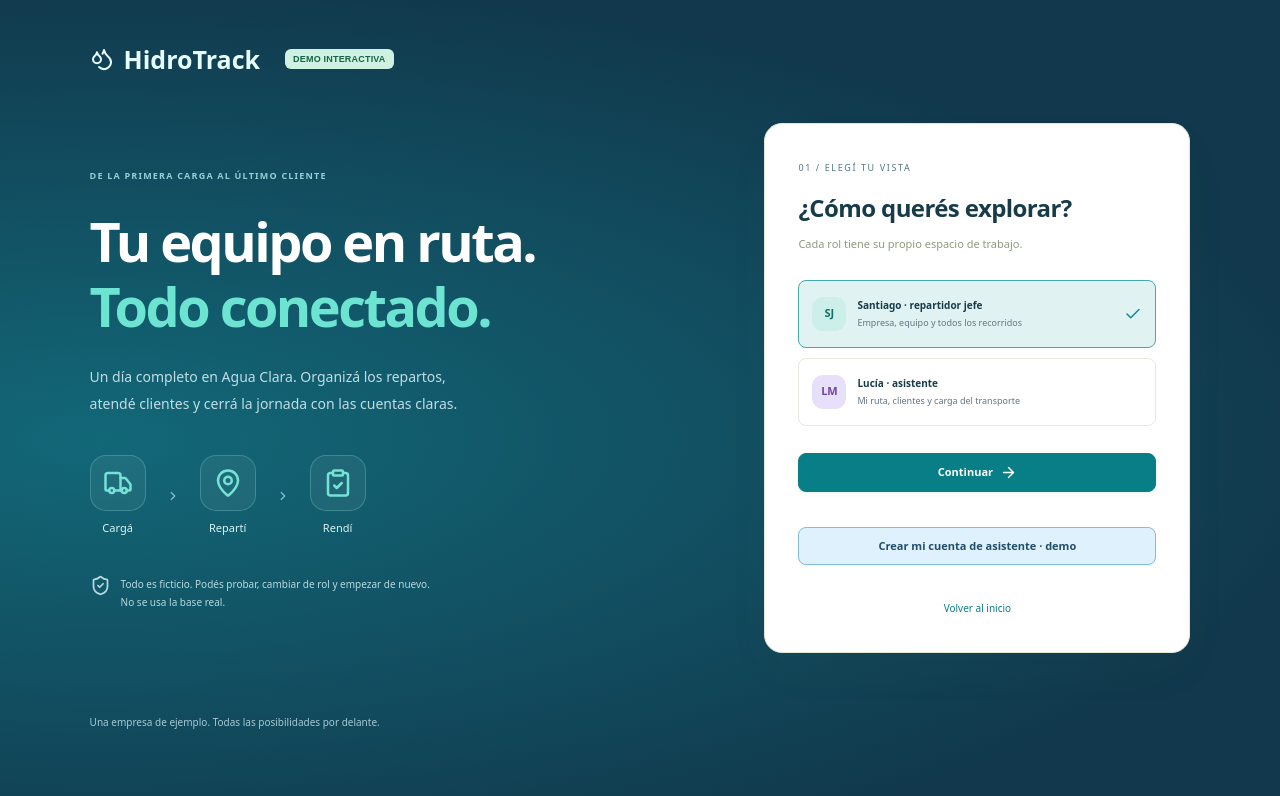
Scenario: muestra el apartado al jefe y lo oculta al cambiar a asistente
Click the button "Continuar".
click(977, 472)  # box x1=798 y1=453 x2=1156 y2=492
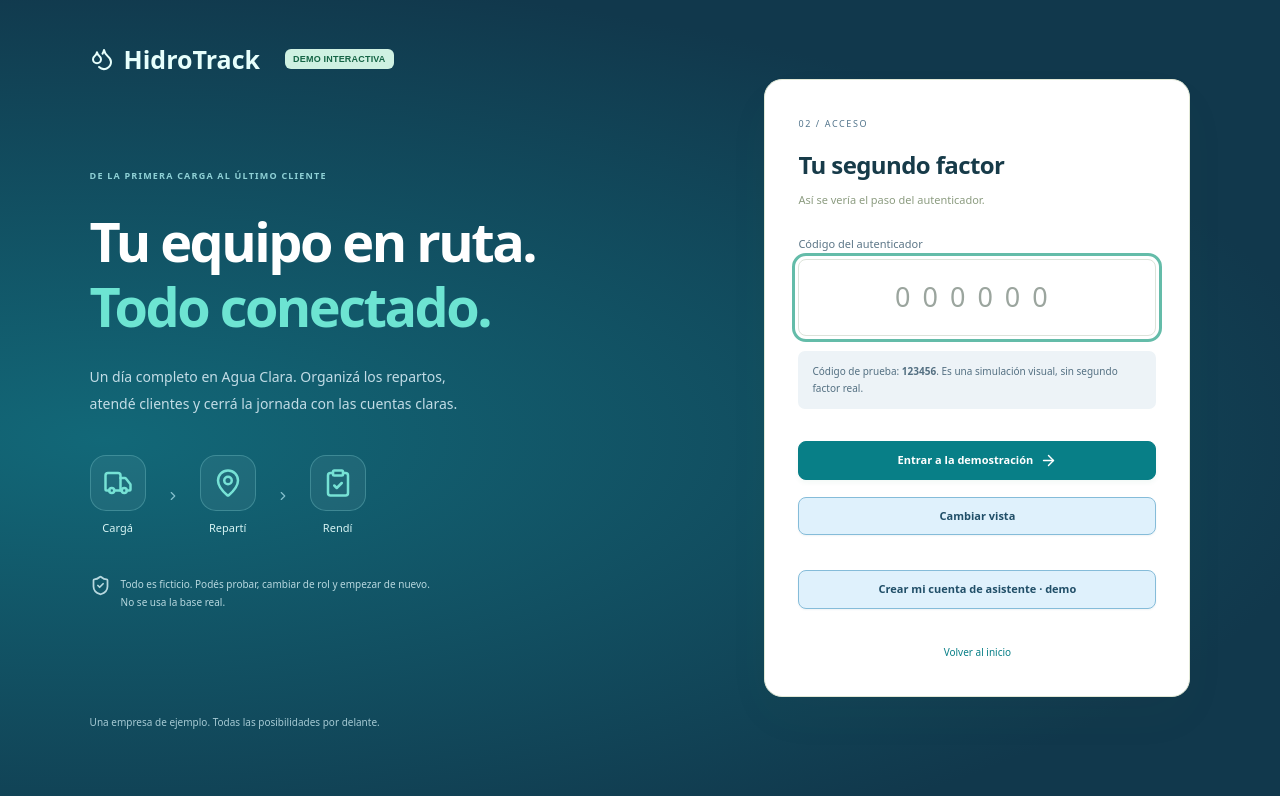
Type "123456" into the field labelled "Código del autenticador".
click(977, 298); type("123456")  # box x1=798 y1=260 x2=1156 y2=336
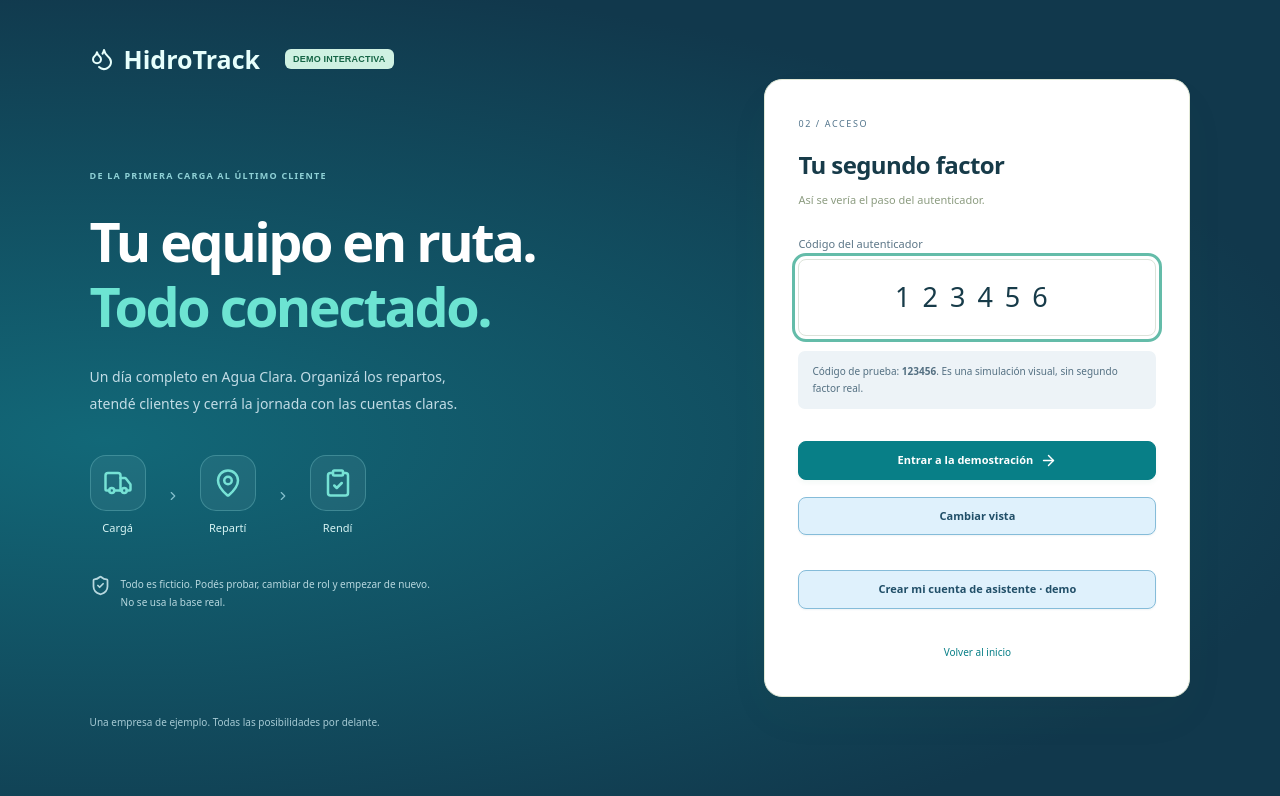
Click the button "Entrar a la demostración".
click(977, 460)  # box x1=798 y1=441 x2=1156 y2=480
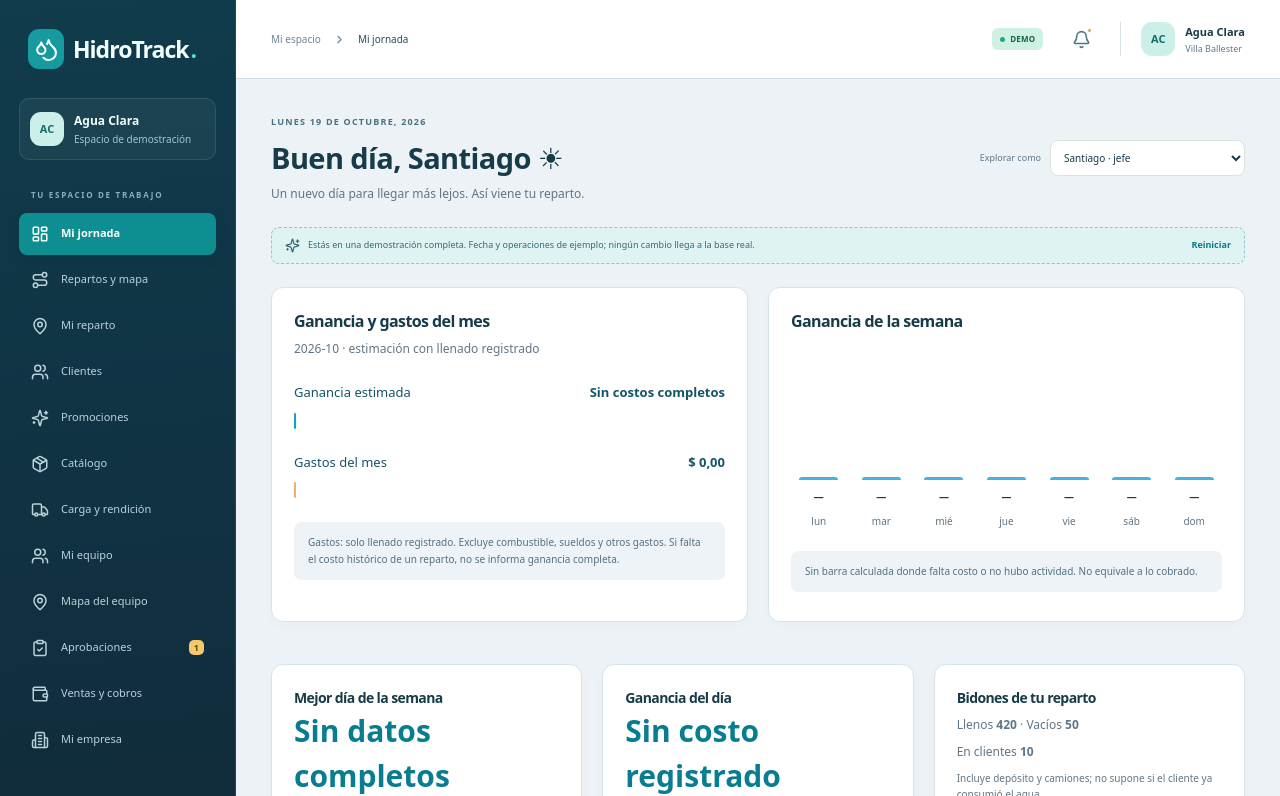
Click the button "Promociones".
click(118, 418)  # box x1=19 y1=396 x2=216 y2=438
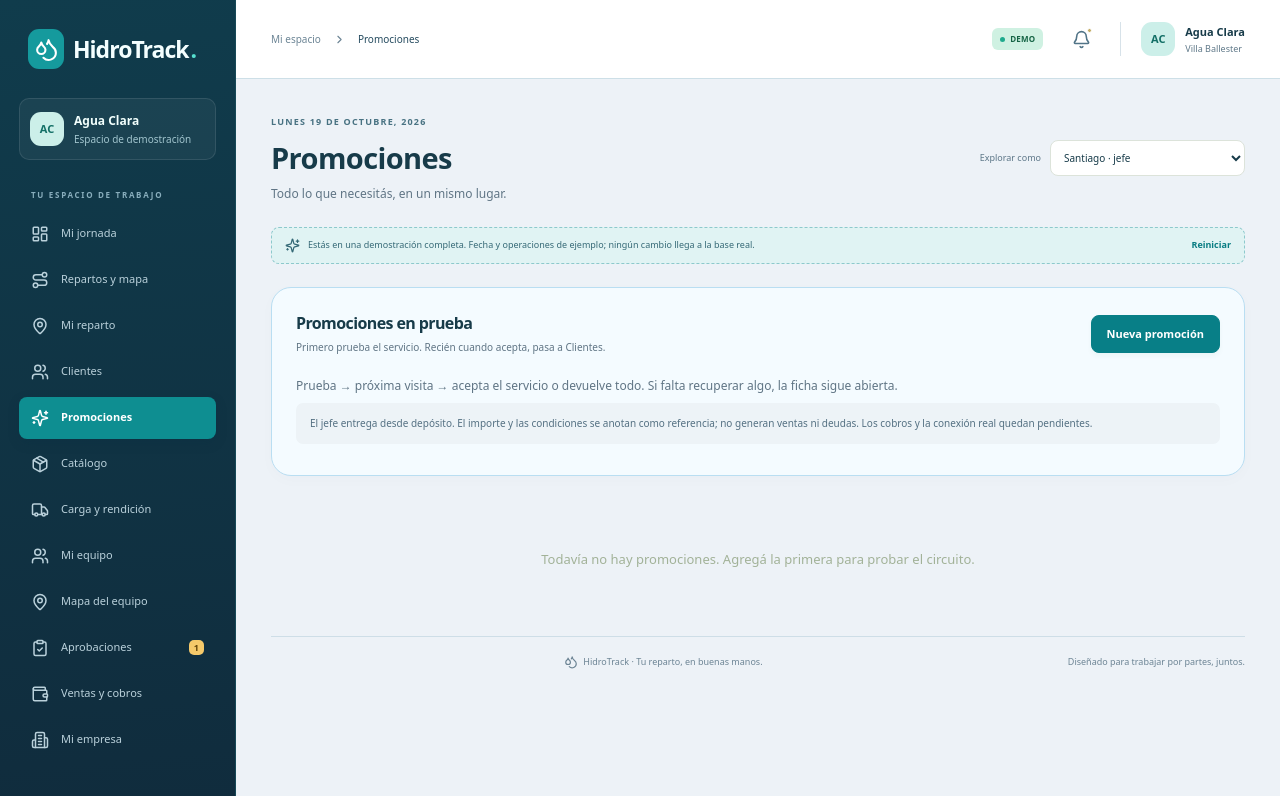
expect the heading "Promociones en prueba" is shown: met, box x1=296 y1=312 x2=472 y2=334
Select "Lucía Medina · asistente" in the dropdown named "Cambiar rol de demostración" at (1148, 158), box x1=1050 y1=140 x2=1245 y2=176
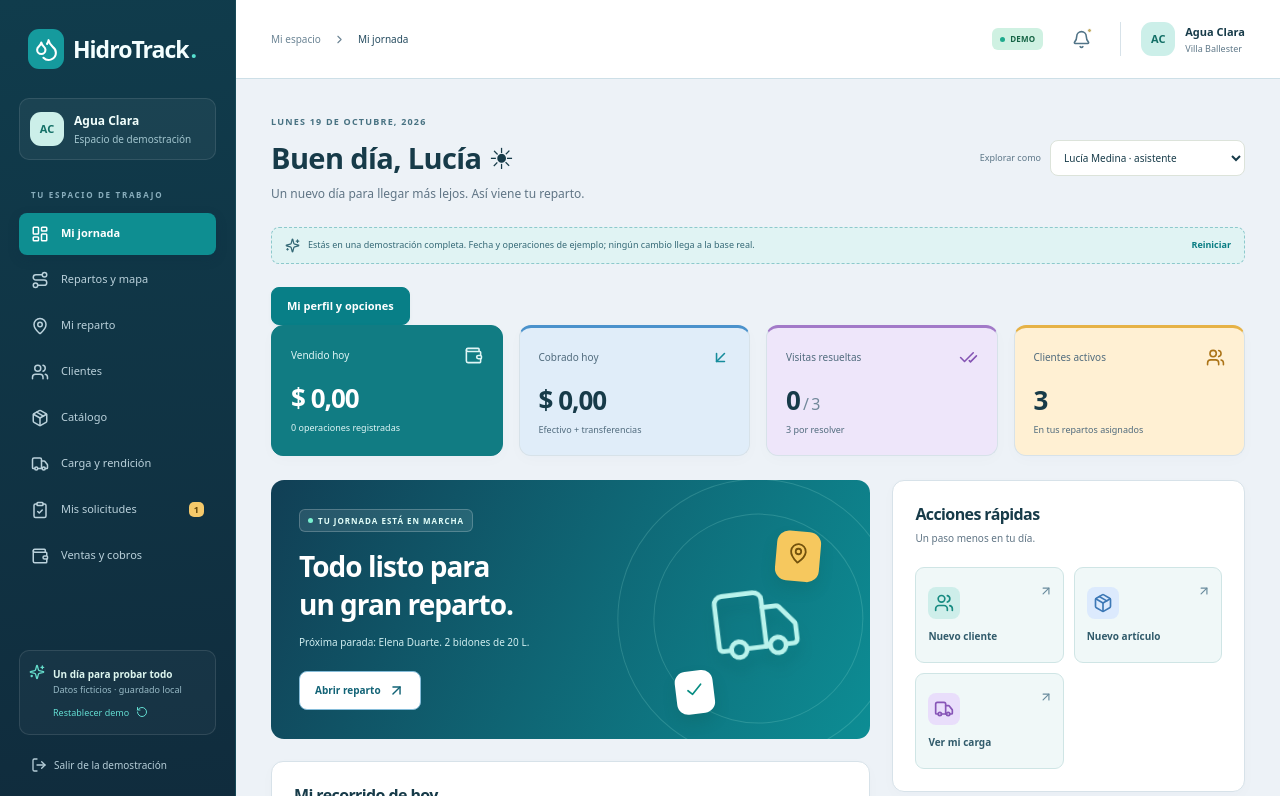
expect the button "Promociones" is gone: met
